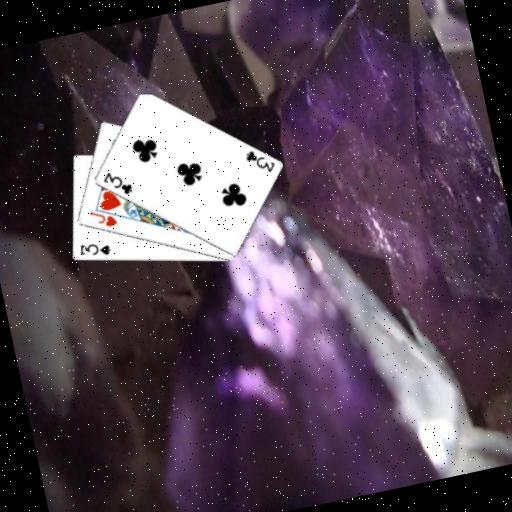3C: (98, 165, 135, 201), (241, 143, 278, 179)
3S: (75, 235, 113, 262)
JH: (85, 203, 119, 232)
